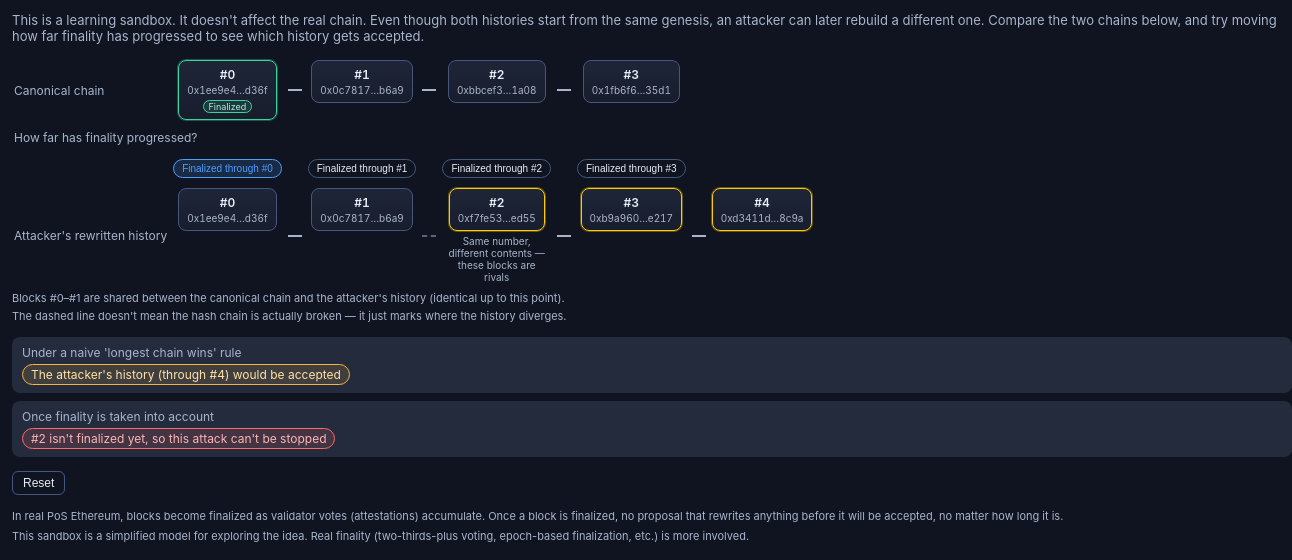
Scenario: LongRangeAttackDemoView: dynamic wording (Issue #415 テスト強化) › switches the English finality verdict wording at the divergence point
This screenshot has width=1292, height=560.
Expected: the text with test id "long-range-demo-verdict-finality" shows "isn't finalized yet", [31,431,326,446]
Step 1. Click the button "Finalized through #2" → (497, 168), box [442,159,551,178]
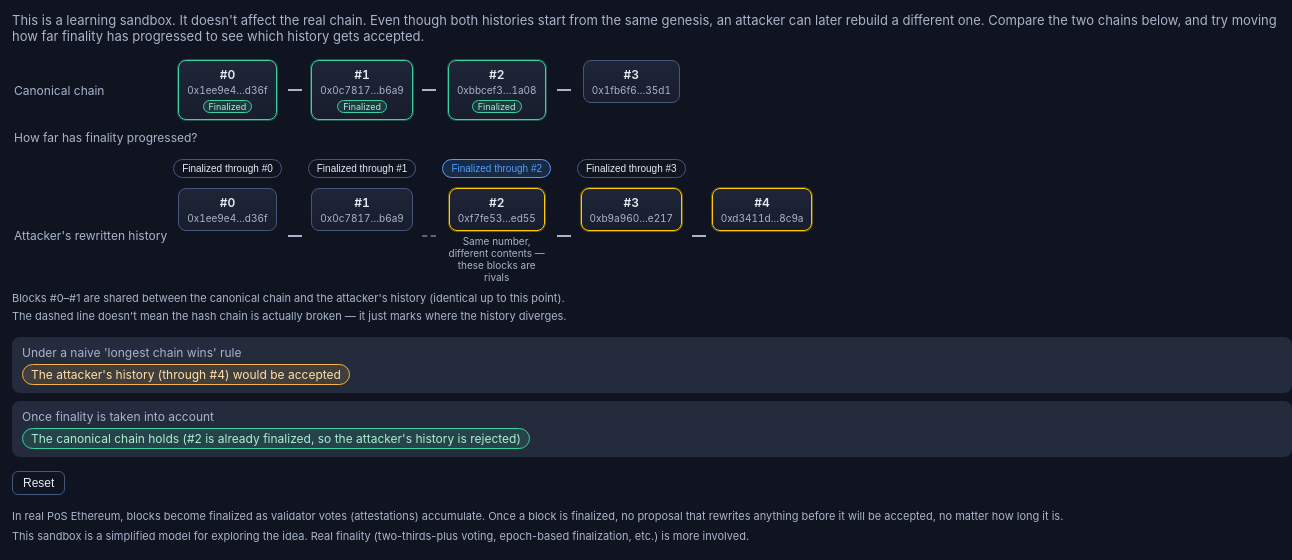
Expected: the text with test id "long-range-demo-verdict-finality" shows "#2", [31,431,521,446]
Expected: the text with test id "long-range-demo-verdict-finality" shows "The canonical chain holds", [31,431,521,446]
